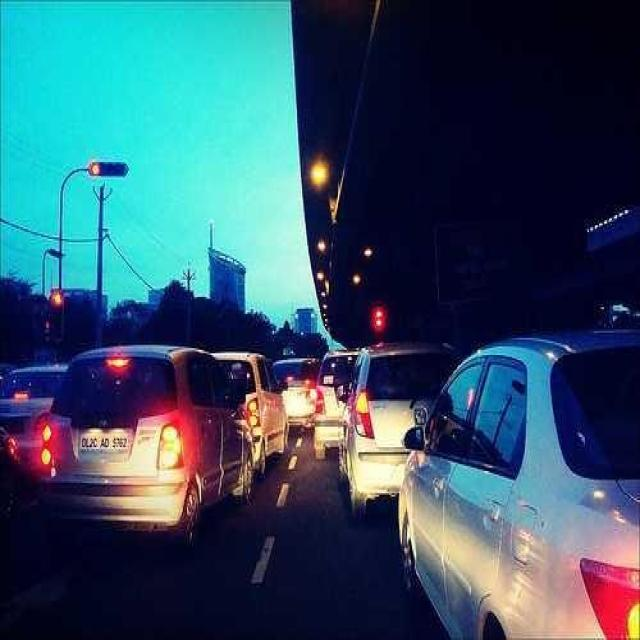Traffic Light -Red-: (44, 287, 66, 333), (87, 160, 131, 180)
